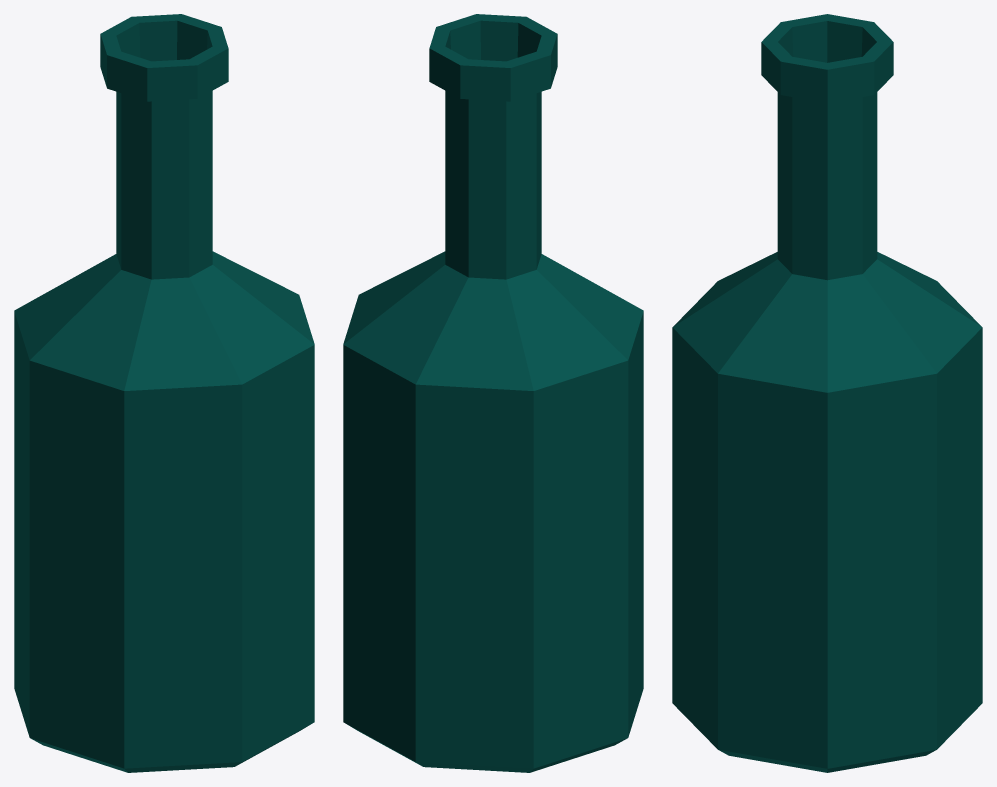
Rendered from Bottle_6.fbx.
The picture shows the model from 3 angles, left to right: view 1: azimuth 30°, elevation 25°; view 2: azimuth 150°, elevation 25°; view 3: azimuth 270°, elevation 25°; orthographic projection.
Parts seen in each view (by area): view 1: Bottle_6; view 2: Bottle_6; view 3: Bottle_6.
Boxes of the visible parts, bbox=[...] form: Bottle_6: bbox=[14, 14, 314, 772]; Bottle_6: bbox=[343, 14, 643, 772]; Bottle_6: bbox=[672, 14, 982, 772].
Size of the model in its own units: 11.63 by 11.63 by 27.82.
